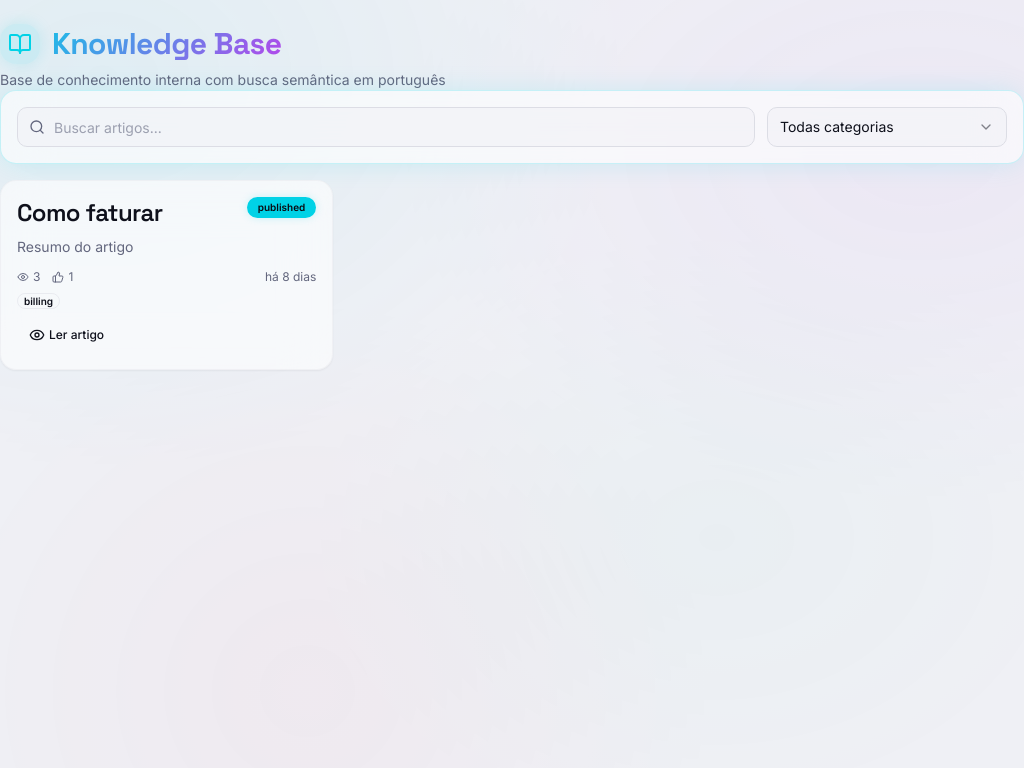
Knowledge — leitura do artigo (etapa 153) › agente abre o conteudo completo do artigo, nao so o resumo
Expected: the text "Conteudo completo do artigo" is not shown
Click the button with aria-label "Ler artigo Como faturar" at (77, 334), box [17,317,316,353]
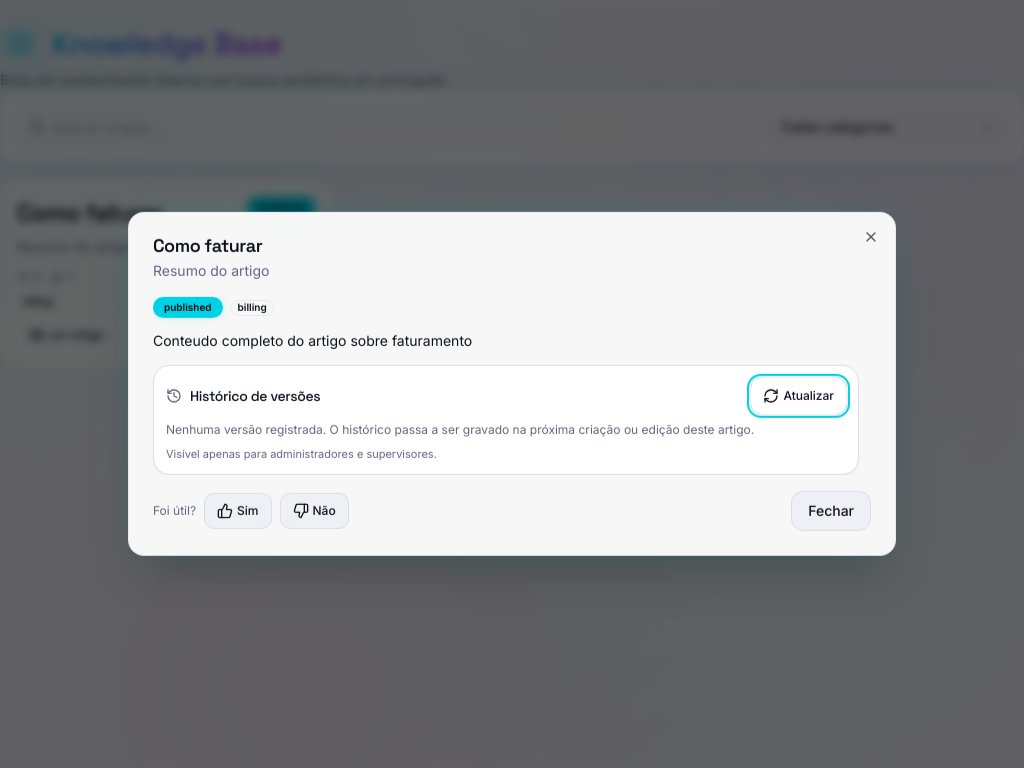
Expected: the heading "Como faturar" is shown, [153,234,262,257]
Expected: the text "Conteudo completo do artigo sobre faturamento" is shown, [153,332,472,349]
